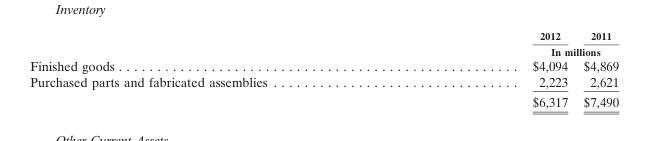table: (29, 29, 618, 109)
table column: (29, 29, 399, 109), (399, 29, 575, 109), (575, 29, 618, 109)
table column header: (29, 29, 618, 57)
table row: (29, 73, 618, 91), (29, 91, 618, 109), (29, 57, 618, 73), (29, 29, 618, 43), (29, 43, 618, 57)
table spanning cell: (399, 43, 618, 57)
